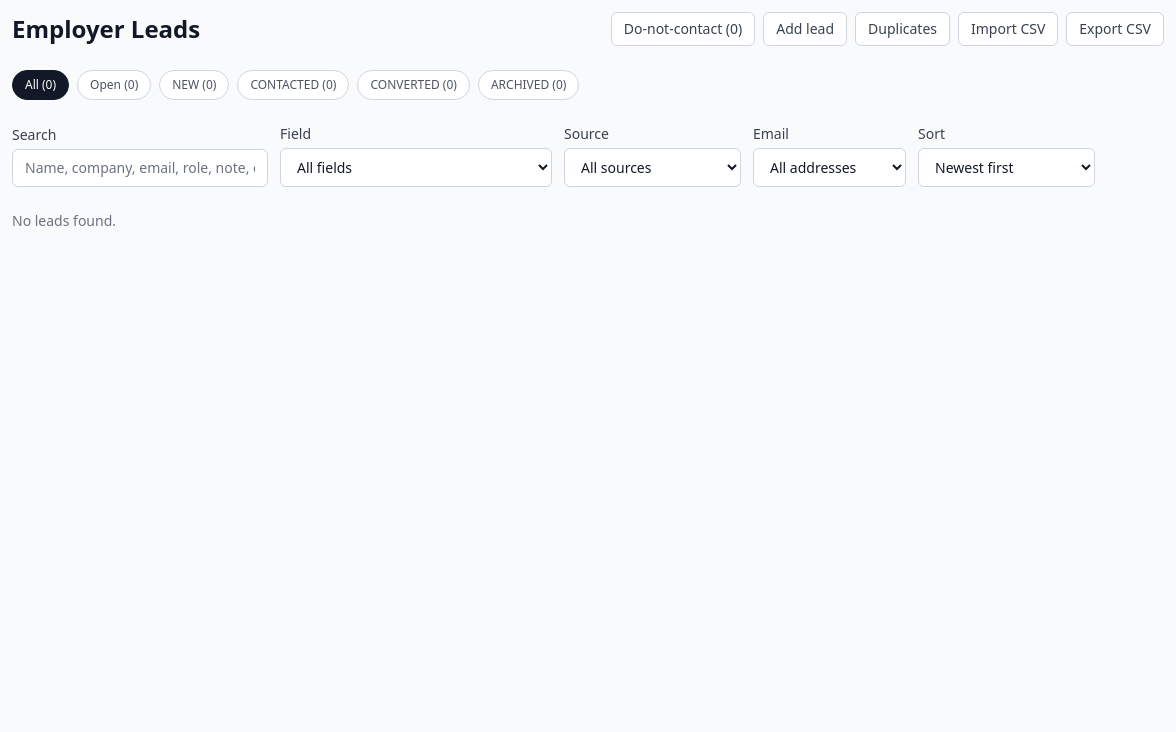
Test case: AdminLeads — capped export › warns when the server says the CSV was truncated
What coordinates should you click on to do the following:
click the button "Export CSV"
I would click on:
 (1115, 29)
Its box is [1066,12,1164,46].
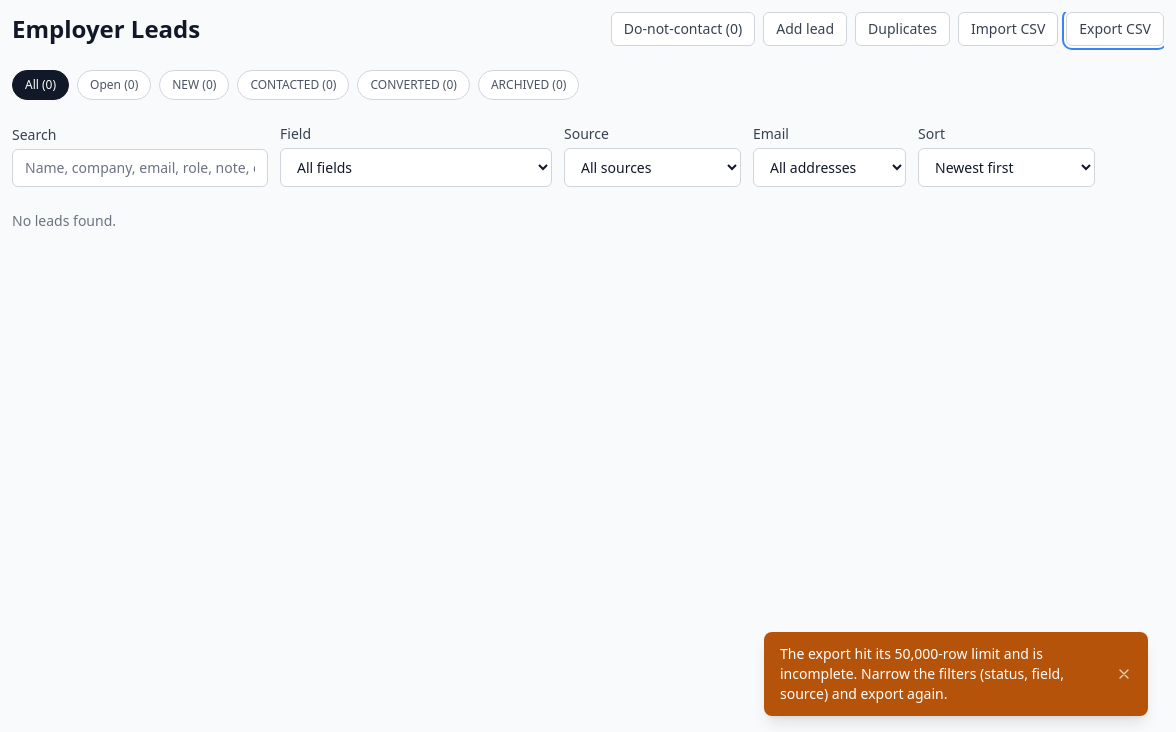
Result: the text "hit its 50,000-row limit and is incomplete" is shown at [780,644,1064,703]
